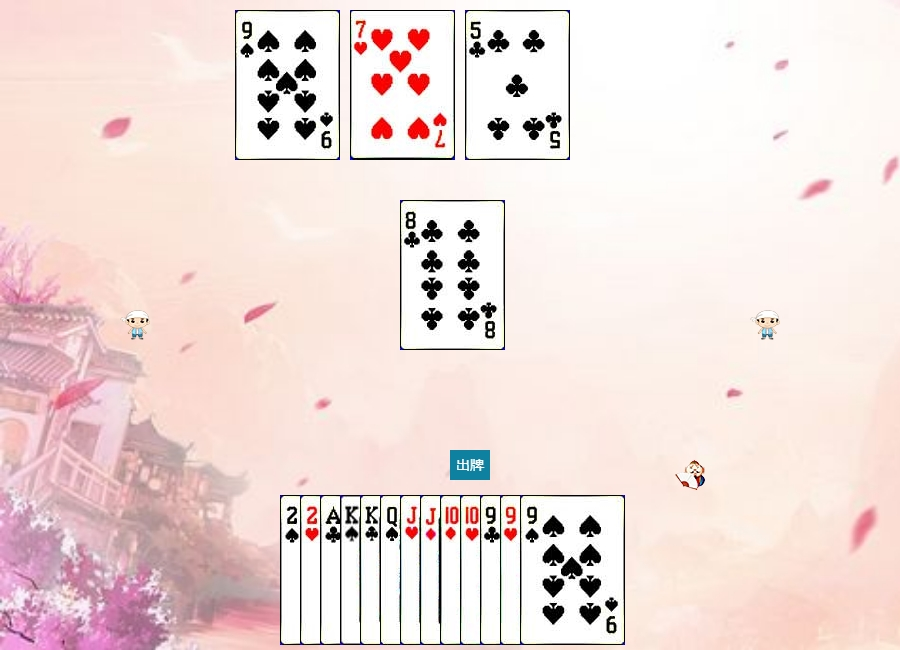10~1: (440, 495, 545, 645)
10~3: (460, 495, 565, 645)
11~1: (420, 495, 525, 645)
11~3: (400, 495, 505, 645)
12~4: (380, 495, 485, 645)
13~2: (360, 495, 465, 645)
13~4: (340, 495, 445, 645)
14~2: (320, 495, 425, 645)
15~3: (300, 495, 405, 645)
15~4: (280, 495, 385, 645)
5~2: (465, 10, 570, 160)
7~3: (350, 10, 455, 160)
8~2: (400, 200, 505, 350)
9~2: (480, 495, 585, 645)
9~3: (500, 495, 605, 645)
9~4: (235, 10, 340, 160), (520, 495, 625, 645)
